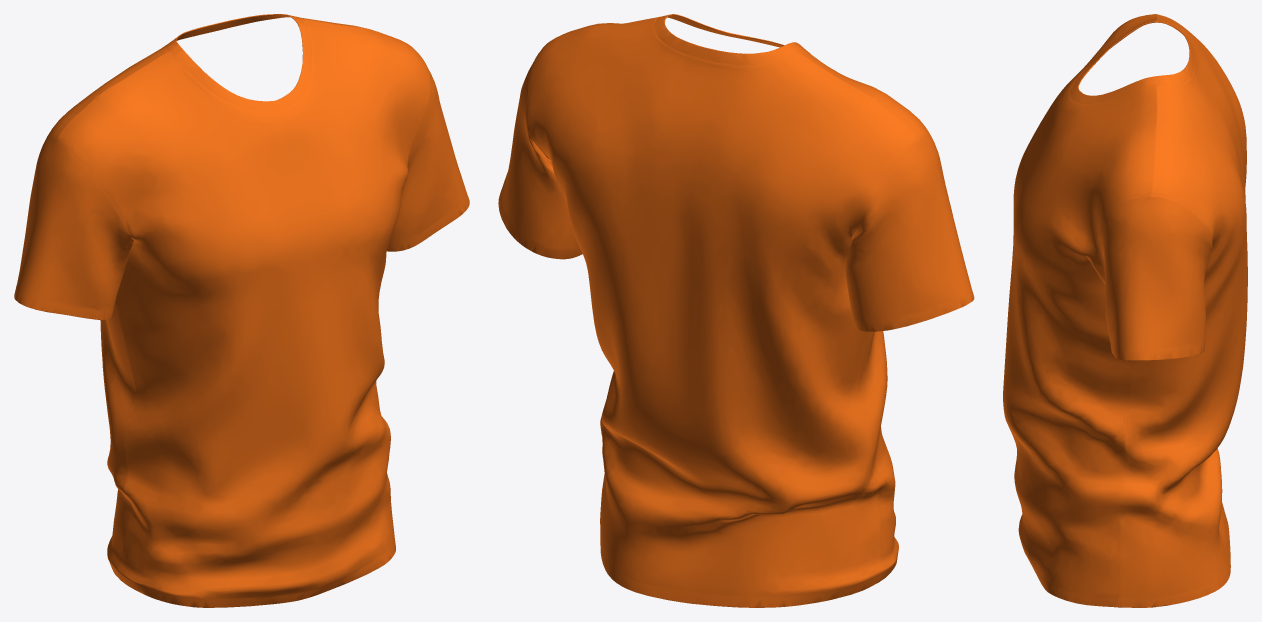
The model's file is design-1761558059333-104304633.glb.
3 views of the same model, side by side, from view 1: azimuth 30°, elevation 25°; view 2: azimuth 150°, elevation 25°; view 3: azimuth 270°, elevation 25° (orthographic). The views are drawn at different scales.
Size of the model in its own units: 1.1 by 1.23 by 0.5379.
